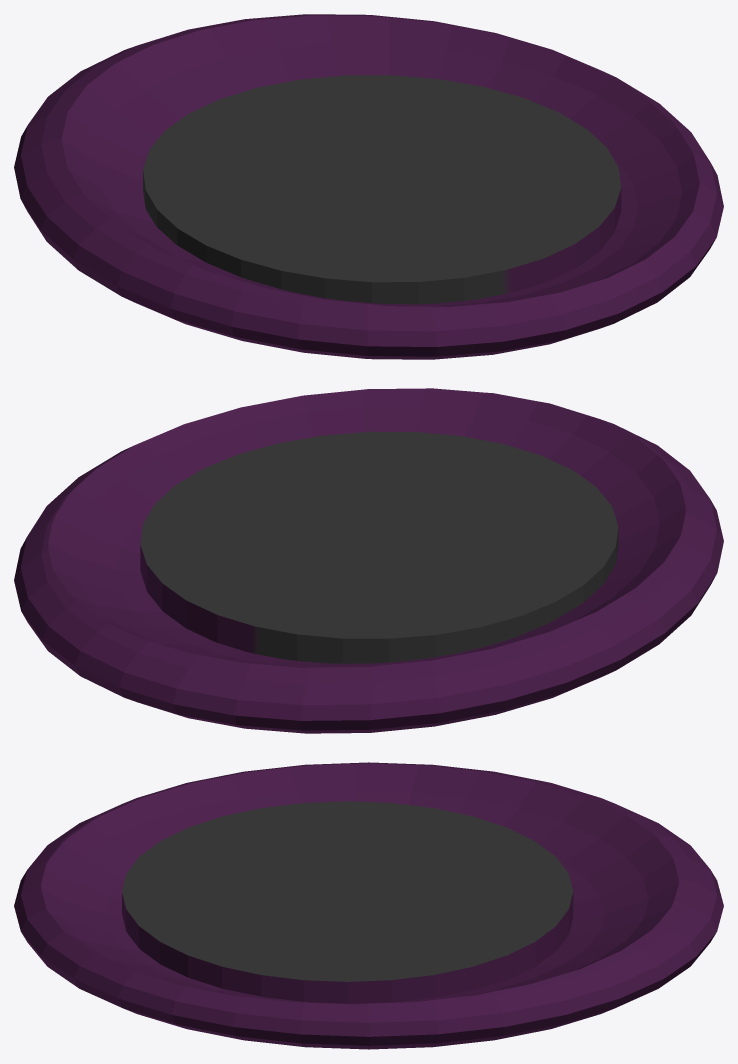
The model's file is ObjectPitFurnace.dae.
The picture shows the model from 3 angles, top to bottom: view 1: azimuth 30°, elevation 25°; view 2: azimuth 150°, elevation 25°; view 3: azimuth 270°, elevation 25°; orthographic projection. The views are drawn at different scales.
Parts seen in each view (by area): view 1: Sphere, Cylinder; view 2: Sphere, Cylinder; view 3: Sphere, Cylinder.
Boxes of the visible parts, x1,y1,x2,y2 form: Sphere: [14, 14, 723, 359]; Cylinder: [143, 75, 621, 304]; Sphere: [14, 388, 723, 733]; Cylinder: [140, 431, 618, 663]; Sphere: [14, 762, 723, 1049]; Cylinder: [122, 801, 573, 1003].
Size of the model in its own units: 3.01 by 3.45 by 0.4722.
